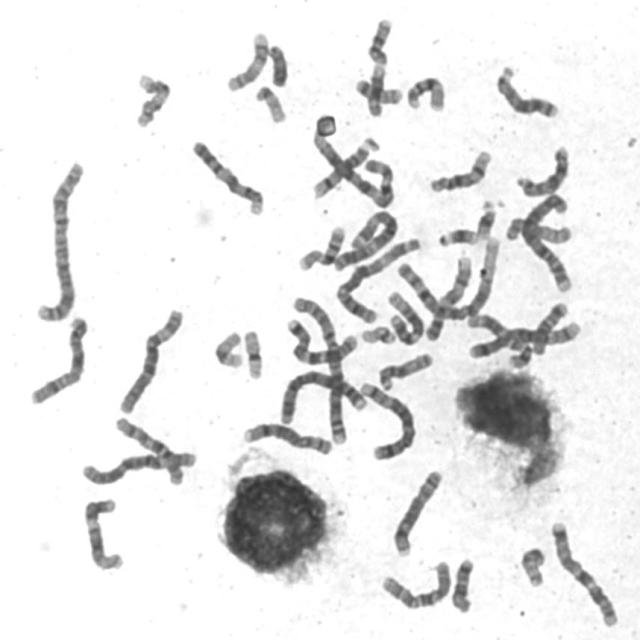A1: (397, 232, 503, 322), (308, 113, 398, 210)
A2: (288, 290, 352, 448), (33, 156, 86, 326)
A3: (332, 234, 422, 326), (329, 206, 400, 274)
B4: (520, 188, 576, 294), (275, 366, 371, 426)
B5: (355, 378, 419, 462), (466, 316, 583, 360)
C10: (111, 412, 187, 487), (376, 556, 453, 612)
C11: (466, 313, 534, 370), (362, 13, 394, 119)
C12: (79, 495, 126, 572), (383, 285, 427, 346)
C6: (115, 304, 186, 416), (77, 446, 198, 488)
C7: (547, 517, 621, 629), (282, 314, 360, 365)
C8: (389, 464, 445, 559), (239, 419, 335, 457)
C9: (188, 136, 266, 217), (422, 252, 476, 344)
D13: (492, 61, 561, 120), (513, 142, 572, 198)
D14: (309, 133, 382, 200), (426, 146, 494, 194)
D15: (374, 349, 435, 393), (502, 211, 575, 246)
E16: (294, 220, 348, 272), (403, 72, 447, 114)
E17: (222, 28, 271, 94), (131, 70, 173, 129)
E18: (528, 299, 570, 357), (448, 554, 477, 615)
F19: (210, 328, 246, 370), (240, 326, 265, 382)
F20: (352, 74, 404, 106), (517, 543, 548, 589)
G21: (474, 195, 499, 242), (435, 224, 481, 249)
G22: (251, 81, 288, 125), (357, 322, 398, 346)
X: (26, 312, 90, 407)
Y: (266, 40, 290, 88)
